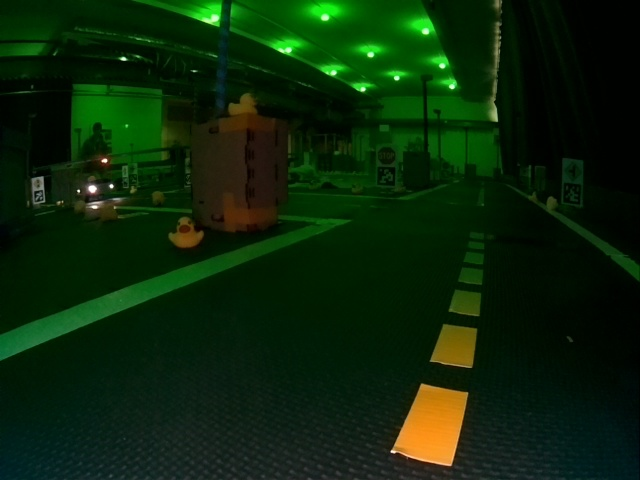Duckie: (169, 216, 204, 247), (228, 93, 258, 114), (99, 203, 117, 221), (546, 196, 557, 210), (152, 192, 164, 204), (529, 192, 540, 201)
Intersection sign: (563, 161, 582, 179)
QR code: (562, 185, 582, 205), (377, 166, 396, 187), (33, 190, 44, 203)
Signal sign: (32, 177, 44, 187)
Stop sign: (377, 145, 396, 165)
